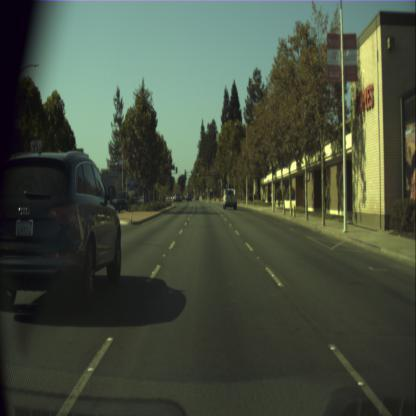Green: (196, 169, 198, 176), (226, 181, 228, 188), (219, 183, 220, 188)
Red: (184, 168, 186, 176)
